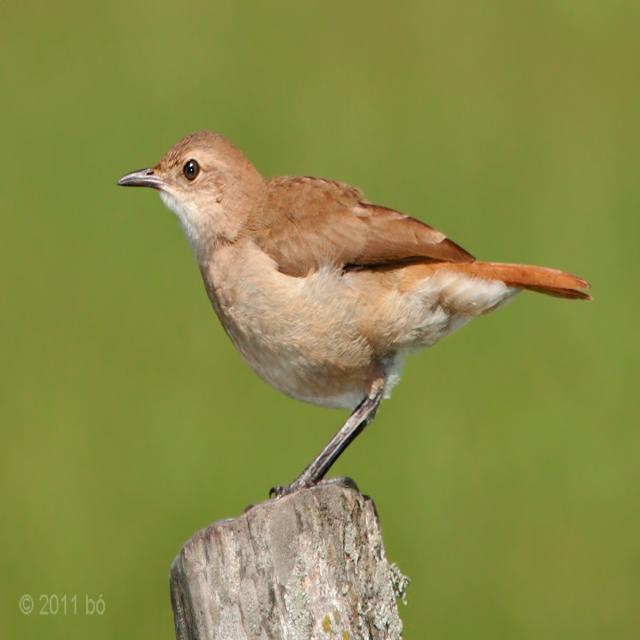bird: (110, 126, 592, 503)
